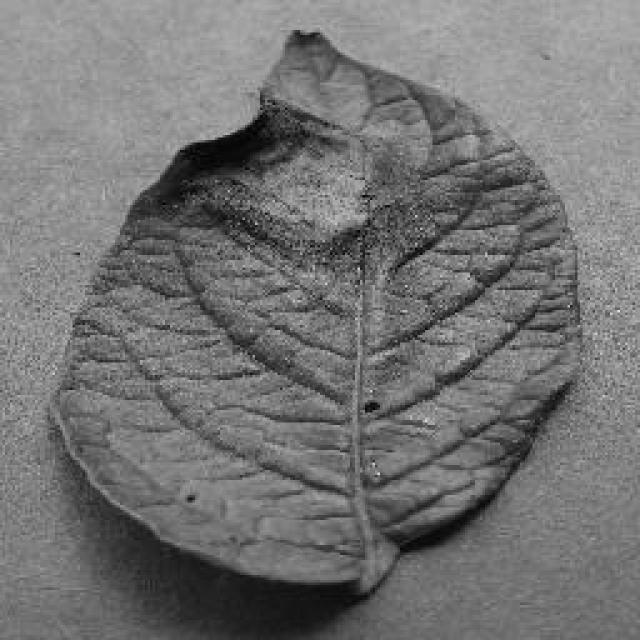Potato: (45, 25, 583, 597)
